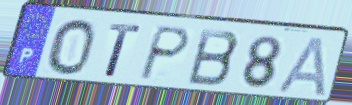8: (240, 34, 286, 90)
A: (275, 34, 328, 98)
B: (185, 27, 242, 89)
O: (45, 17, 97, 77)
P: (136, 24, 193, 83)
T: (103, 21, 143, 80)
